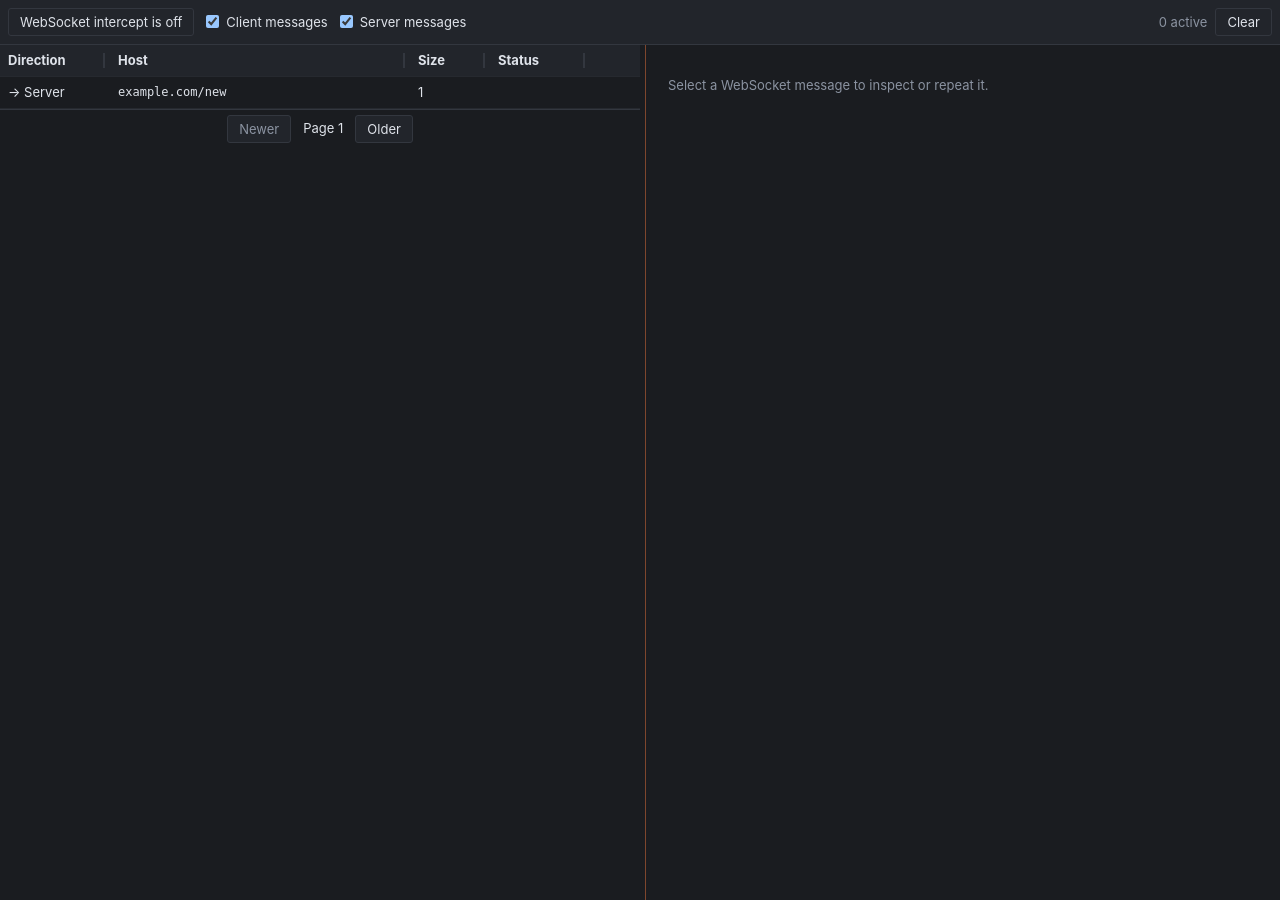
pages through persisted older messages
Expected: the text "example.com/new" is shown, [110,76,410,108]
Step 1. Click the button "Older" → (384, 129), box [355,115,413,143]
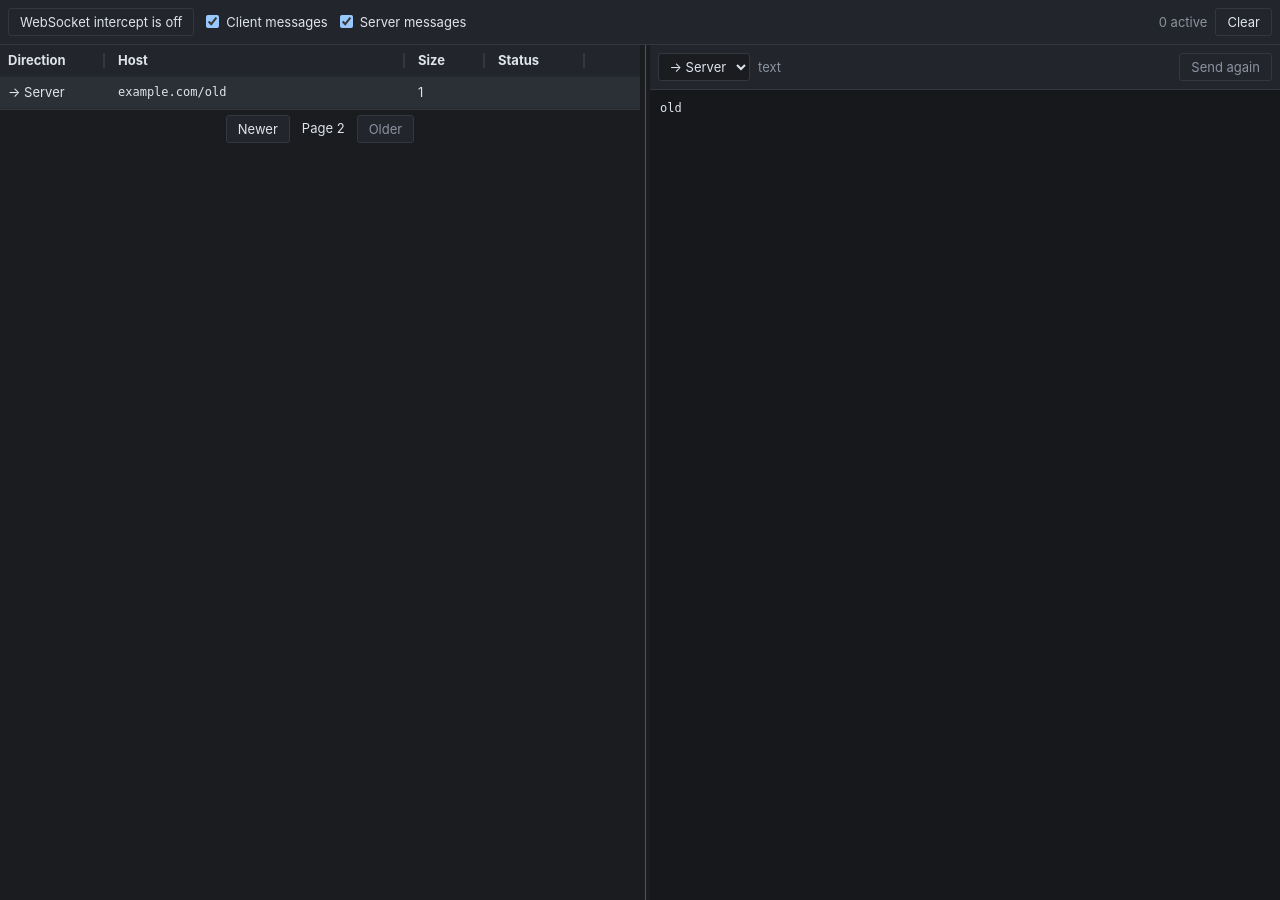
Now the text "example.com/old" is shown, box [110,76,410,108]
Step 2. Click the button "Newer" → (258, 129), box [226,115,290,143]
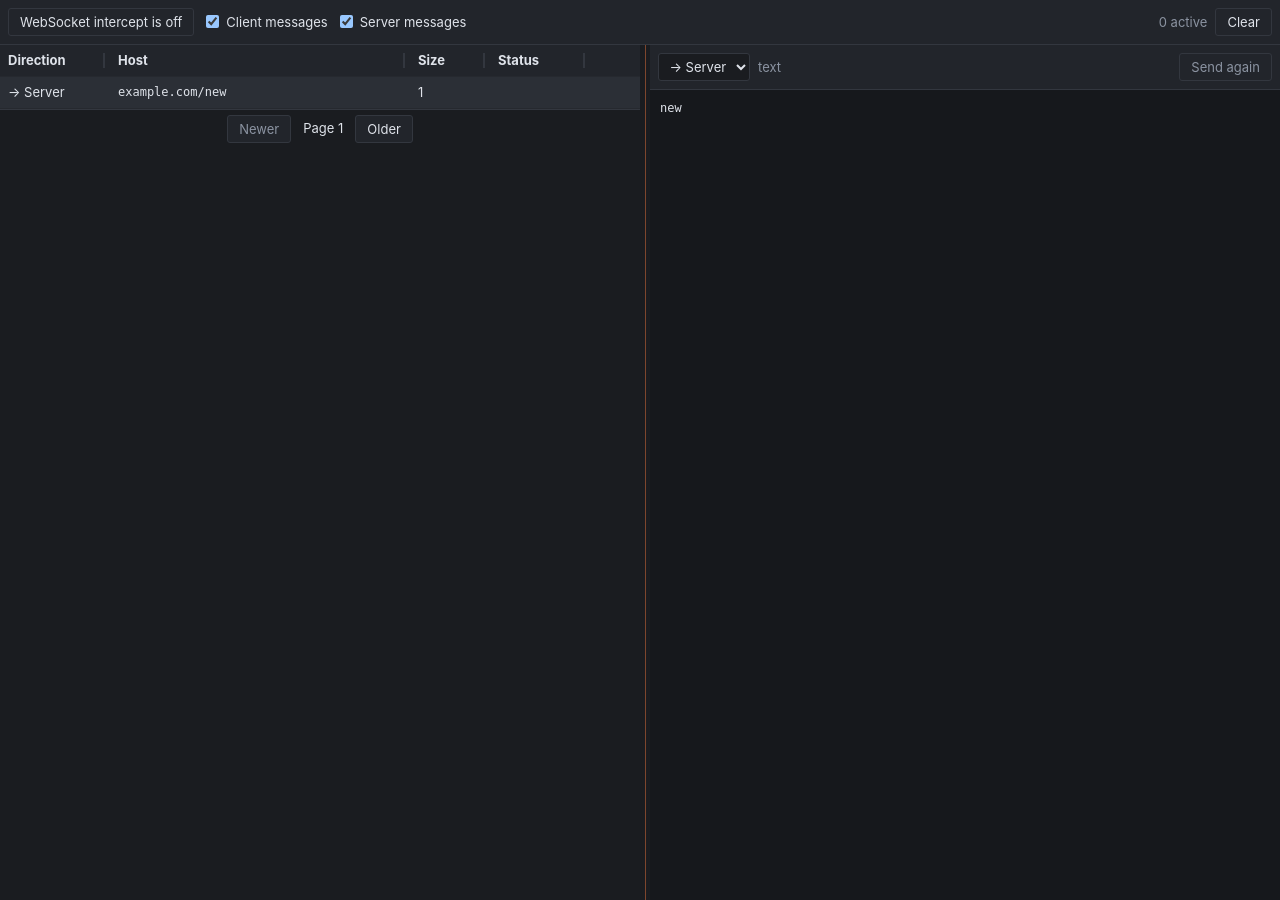
Now the text "example.com/new" is shown, box [110,76,410,108]
